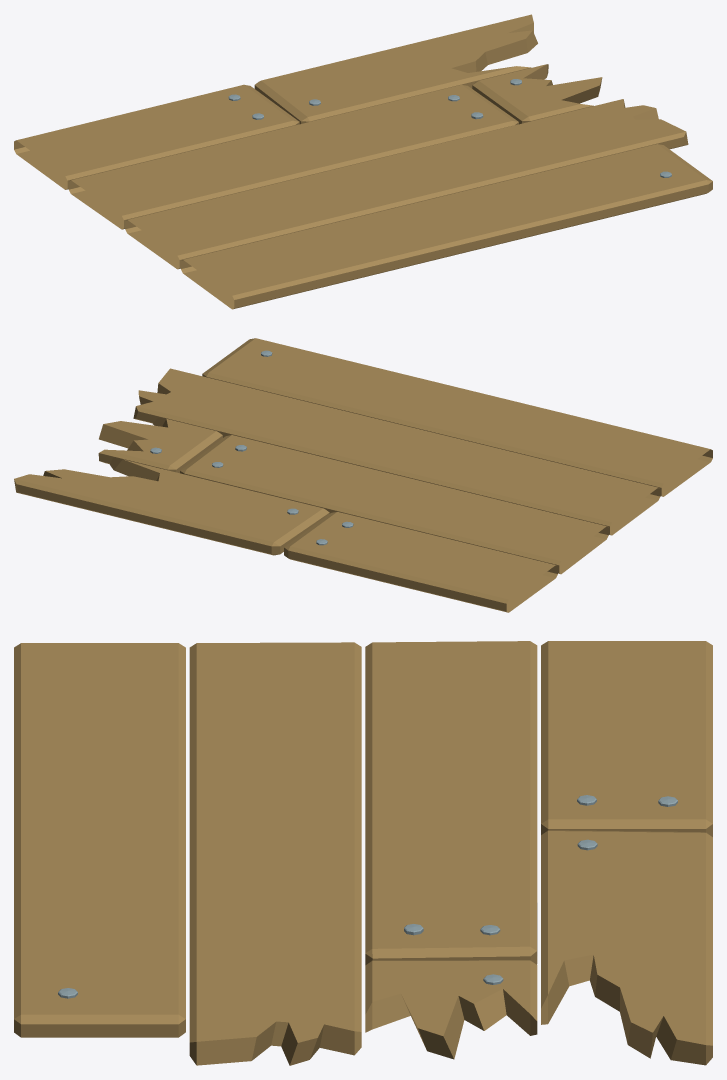
The model's file is Floor_crack1_FIX.fbx.
The picture shows the model from 3 angles, top to bottom: view 1: azimuth 30°, elevation 25°; view 2: azimuth 150°, elevation 25°; view 3: azimuth 270°, elevation 25°; orthographic projection. The views are drawn at different scales.
Visible parts, largest first — view 1: plain boards.022; view 2: plain boards.022; view 3: plain boards.022.
Boxes of the visible parts, x1,y1,x2,y2 form: plain boards.022: (14,14,712,309); plain boards.022: (14,338,712,612); plain boards.022: (14,641,712,1065).
Bounding box in the file's own units: 228 × 6.98 × 167.
